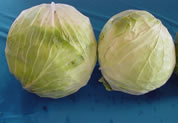cabbage: (3, 2, 98, 101), (91, 5, 177, 99)
